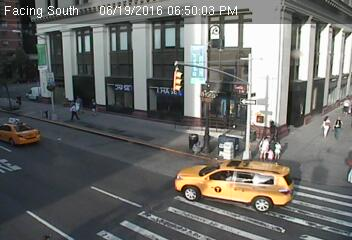neg: (299, 173, 324, 207), (168, 54, 188, 80), (281, 110, 300, 134), (208, 25, 221, 41), (57, 158, 69, 173), (118, 134, 129, 149), (183, 173, 194, 188), (186, 134, 196, 148), (215, 200, 225, 213), (249, 49, 259, 61), (221, 138, 230, 150), (240, 93, 249, 105), (87, 158, 94, 166), (289, 37, 295, 44)
pos: (316, 112, 336, 139), (327, 115, 346, 141), (253, 132, 272, 157), (268, 137, 285, 159), (337, 95, 351, 116), (66, 101, 79, 119), (87, 98, 100, 115), (73, 93, 85, 109), (266, 146, 276, 159)
